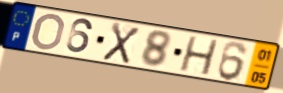6: (216, 39, 249, 83), (65, 17, 95, 57)
8: (140, 29, 173, 70)
H: (177, 35, 220, 77)
O: (30, 12, 68, 51)
X: (100, 21, 142, 66)
